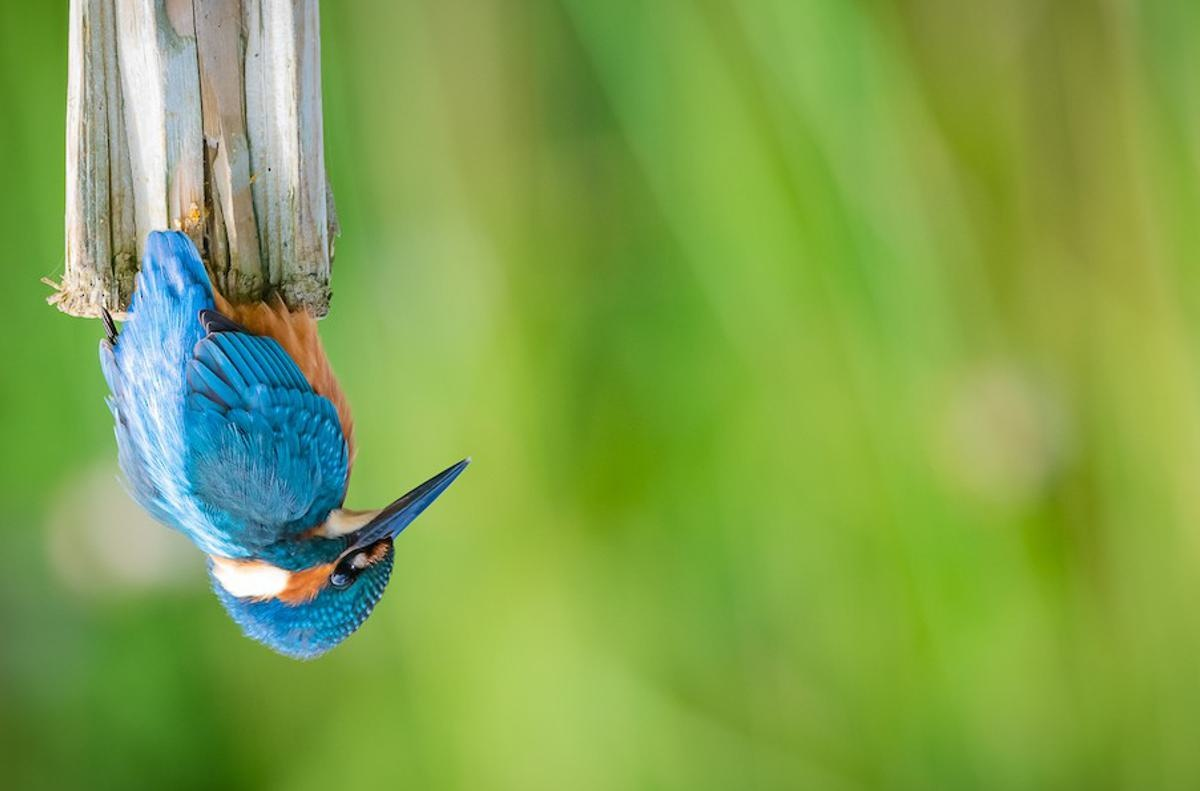kingfisher: (90, 227, 487, 663)
